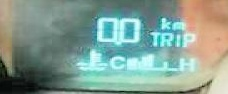-: (113, 39, 120, 44)
0: (116, 16, 140, 42), (95, 16, 116, 42)
X: (177, 56, 193, 72), (107, 53, 123, 68), (180, 32, 195, 46), (158, 30, 172, 45), (158, 15, 170, 29), (147, 30, 158, 45), (170, 19, 185, 29), (173, 32, 180, 47)
